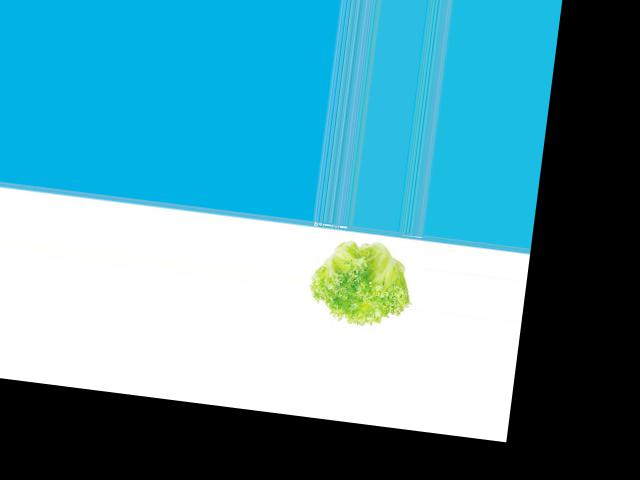lettuce: (305, 229, 415, 334)
